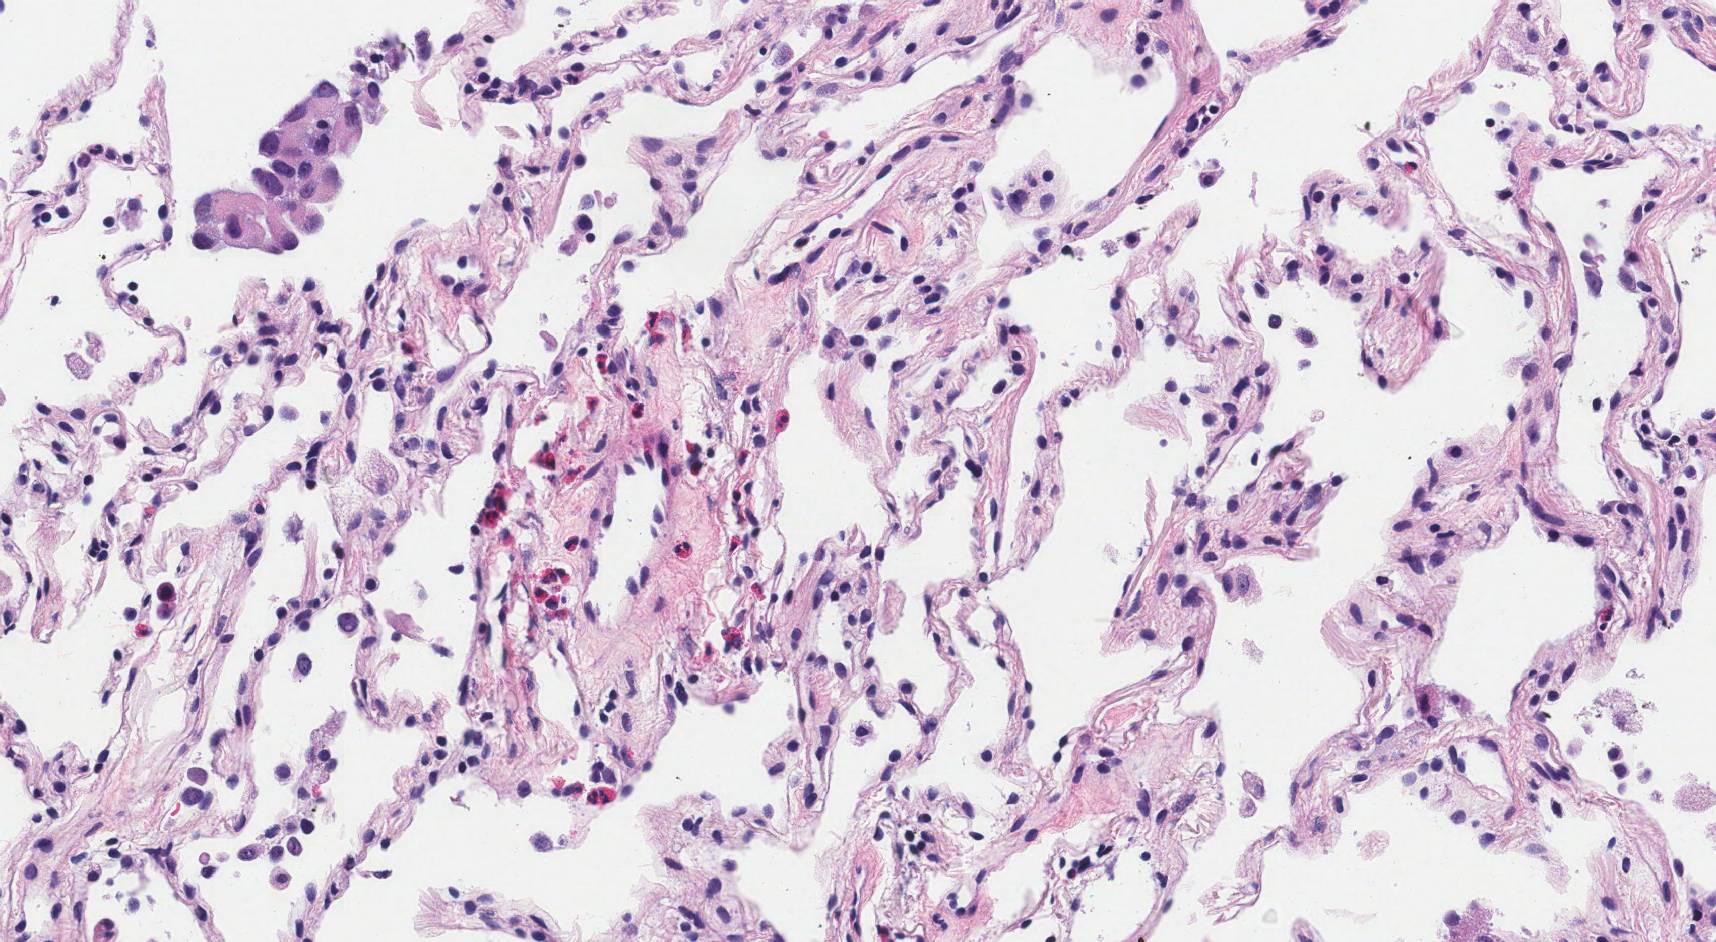stas: (189, 77, 365, 257)
